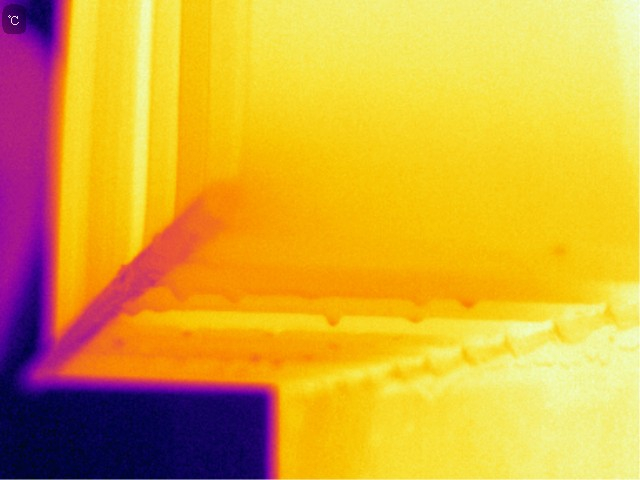Oil: (113, 296, 153, 322), (218, 287, 247, 307), (551, 238, 574, 261), (164, 284, 195, 301), (410, 294, 435, 310), (323, 310, 346, 327), (327, 338, 347, 354), (456, 296, 477, 311), (272, 352, 289, 370), (404, 314, 427, 324), (249, 349, 261, 368)
